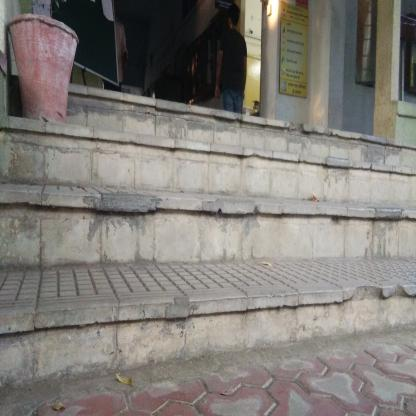stairs: (3, 116, 414, 346)
